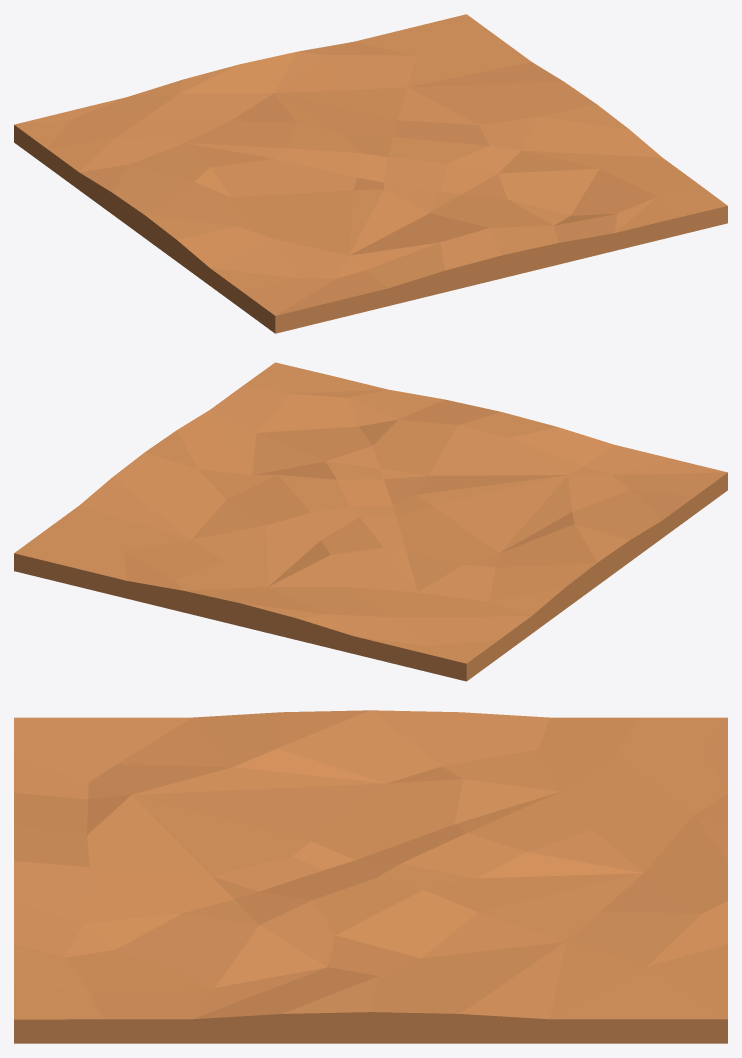
Rendered from Road_part.FBX.
3 views of the same model, one above another, from view 1: azimuth 30°, elevation 25°; view 2: azimuth 150°, elevation 25°; view 3: azimuth 270°, elevation 25° (orthographic). The views are drawn at different scales.
Visible parts, largest first — view 1: Road_part; view 2: Road_part; view 3: Road_part.
Boxes of the visible parts, box(x1,y1,x2,y2) form: Road_part: box(14, 14, 727, 333); Road_part: box(14, 362, 727, 681); Road_part: box(14, 710, 727, 1043).
Size of the model in its own units: 1.5 by 0.0837 by 1.5.
1 material, 1 textured.
